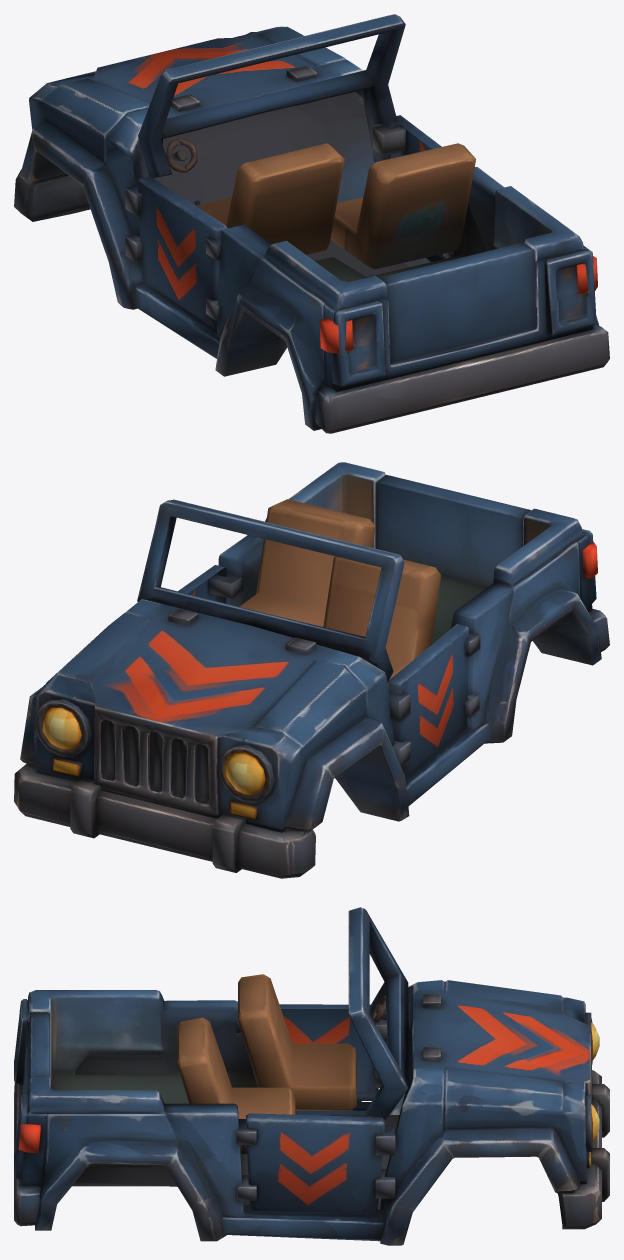
3 views of the same model, one above another, from view 1: azimuth 30°, elevation 25°; view 2: azimuth 150°, elevation 25°; view 3: azimuth 270°, elevation 25° (orthographic). The views are drawn at different scales.
Parts seen in each view (by area): view 1: tripo_node_e8dd1da5-7011-4196-b9dd-0ca60245d2a5; view 2: tripo_node_e8dd1da5-7011-4196-b9dd-0ca60245d2a5; view 3: tripo_node_e8dd1da5-7011-4196-b9dd-0ca60245d2a5.
Boxes of the visible parts, x1,y1,x2,y2 form: tripo_node_e8dd1da5-7011-4196-b9dd-0ca60245d2a5: (14, 14, 609, 433); tripo_node_e8dd1da5-7011-4196-b9dd-0ca60245d2a5: (14, 462, 609, 878); tripo_node_e8dd1da5-7011-4196-b9dd-0ca60245d2a5: (14, 907, 609, 1245).
Size of the model in its own units: 0.5332 by 0.4121 by 0.998.
1 material, 1 textured.
